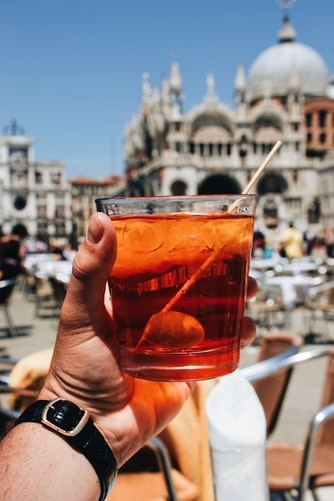whiskey: (100, 191, 259, 381)
